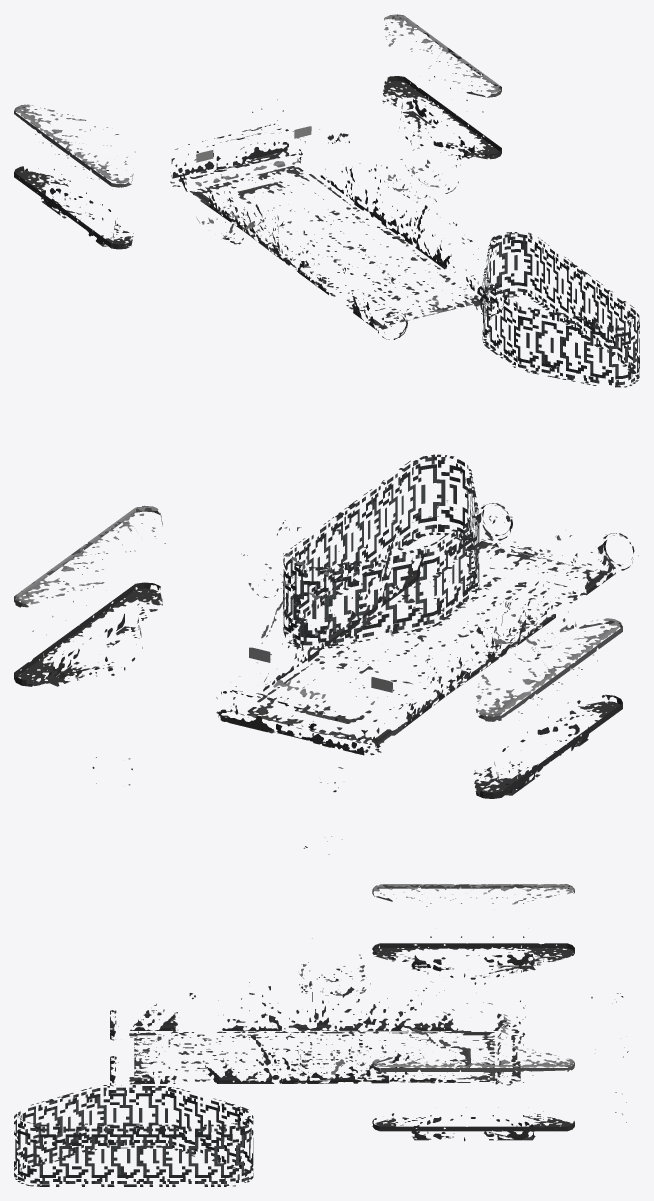
The model's file is tank.fbx.
3 renders of one model, top to bottom at view 1: azimuth 30°, elevation 25°; view 2: azimuth 150°, elevation 25°; view 3: azimuth 270°, elevation 25°, orthographic. The views are drawn at different scales.
Visible parts, largest first — view 1: tank_track, tank_body, tank_trackbase_right, tank_trackbase_left; view 2: tank_track, tank_body, tank_trackbase_right, tank_trackbase_left; view 3: tank_track, tank_body, tank_trackbase_left, tank_trackbase_right.
Part boxes in pixels (x1=…): tank_track: x1=482, y1=232, x2=639, y2=387; tank_body: x1=170, y1=123, x2=508, y2=339; tank_trackbase_right: x1=382, y1=14, x2=501, y2=159; tank_trackbase_left: x1=14, y1=104, x2=135, y2=249; tank_track: x1=283, y1=454, x2=479, y2=649; tank_body: x1=216, y1=500, x2=638, y2=755; tank_trackbase_right: x1=14, y1=505, x2=165, y2=686; tank_trackbase_left: x1=473, y1=618, x2=622, y2=798; tank_track: x1=14, y1=1085, x2=253, y2=1186; tank_body: x1=110, y1=938, x2=525, y2=1086; tank_trackbase_left: x1=372, y1=884, x2=574, y2=984; tank_trackbase_right: x1=372, y1=1044, x2=574, y2=1141.
Bounding box in the file's own units: 498 × 194 × 690.
3 materials, 2 textured.
